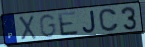3: (120, 6, 138, 31)
C: (98, 8, 121, 33)
E: (57, 10, 80, 37)
G: (38, 13, 57, 39)
J: (81, 9, 97, 34)
X: (17, 14, 38, 41)
